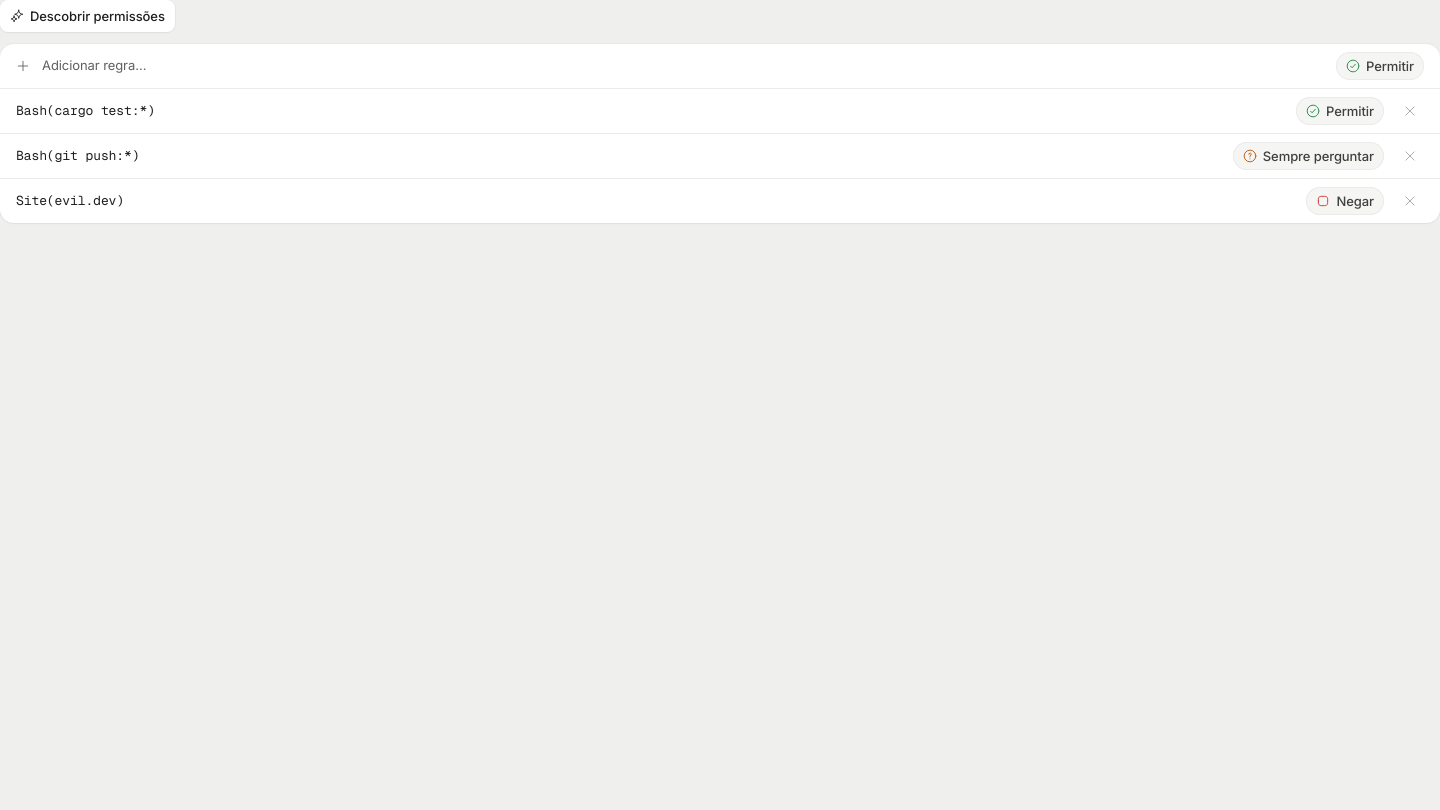
Scenario: aba de permissões › cada regra diz se permite, sempre pergunta ou nega
Later steps or results of the test are not shown.
Expected: the dropdown named "O que fazer com Bash(cargo test:*)" reads "Permitir", [1296,97,1384,125]
Expected: the dropdown named "O que fazer com Site(evil.dev)" reads "Negar", [1306,187,1384,215]
What coordinates should you click on to do the following:
click the dropdown named "O que fazer com Bash(git push:*)"
I would click on:
 (1308, 156)
Its box is [1233,142,1384,170].
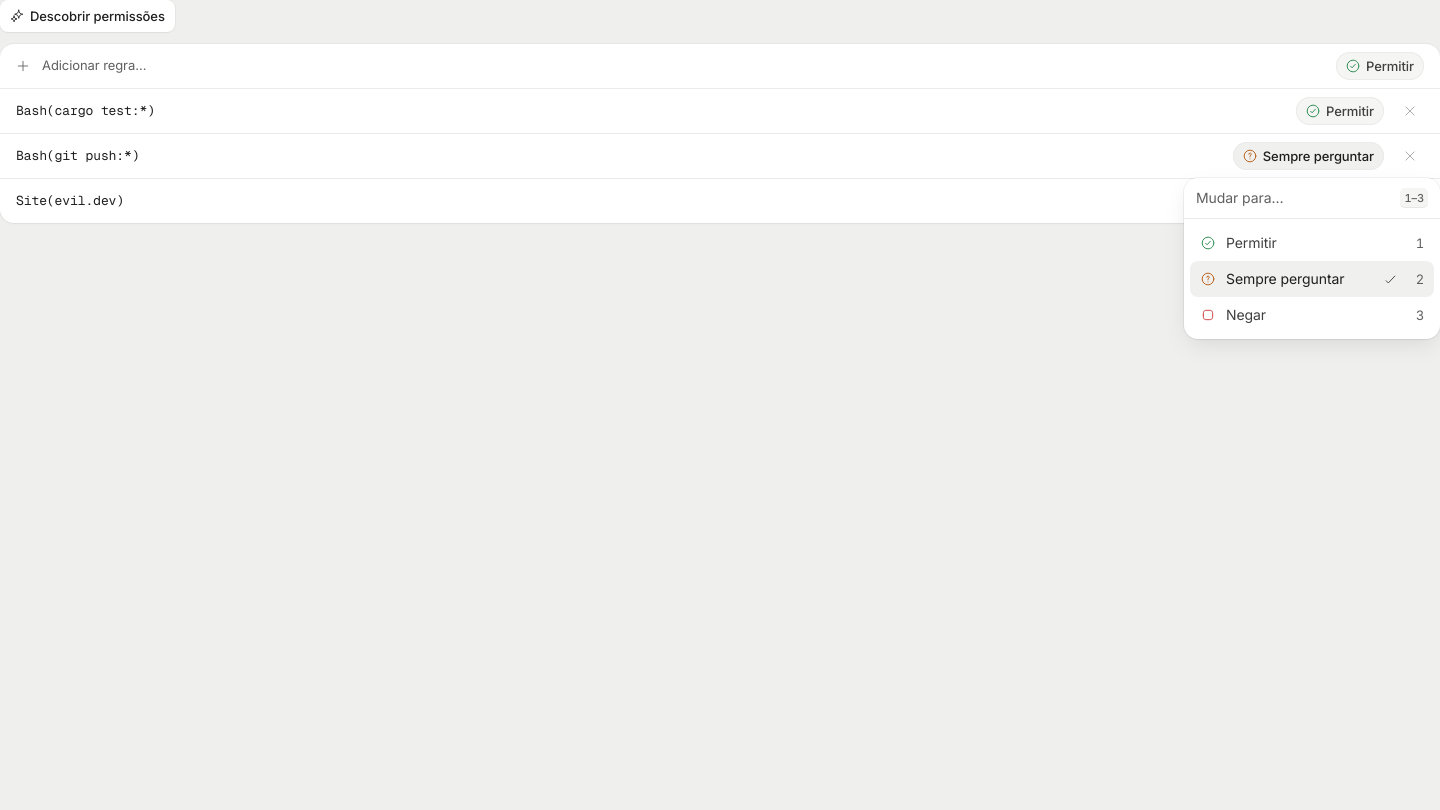
Expected: the options read "Permitir1", "Sempre perguntar2", "Negar3", in this order, [1201,234,1424,251]; [1190,261,1434,297]; [1201,306,1424,323]
